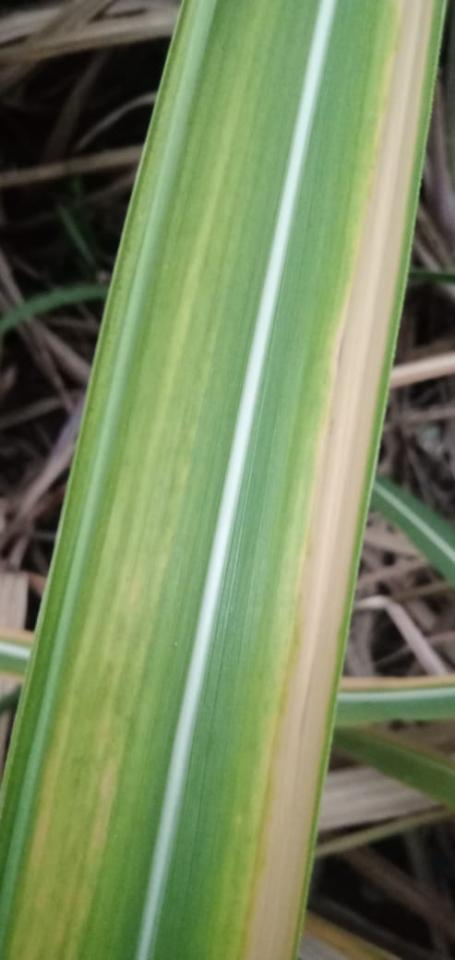Yellow: (244, 0, 435, 959)
